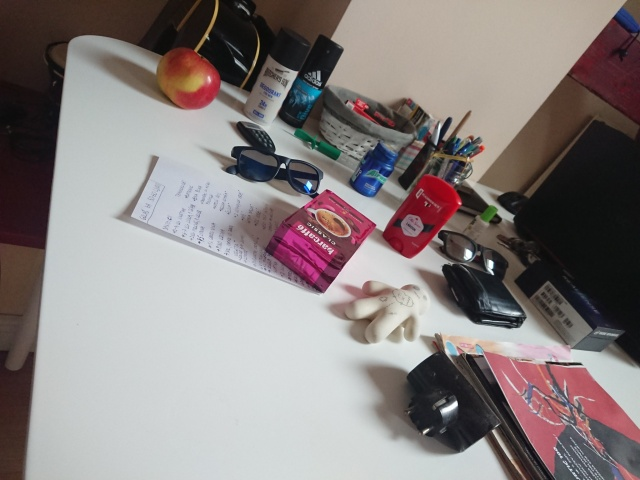Barcaffe Classic Original 225g: (262, 187, 378, 295)
